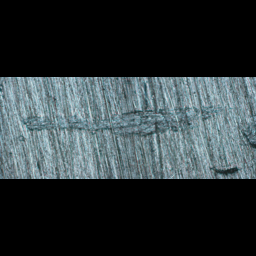d: (20, 102, 222, 137)
